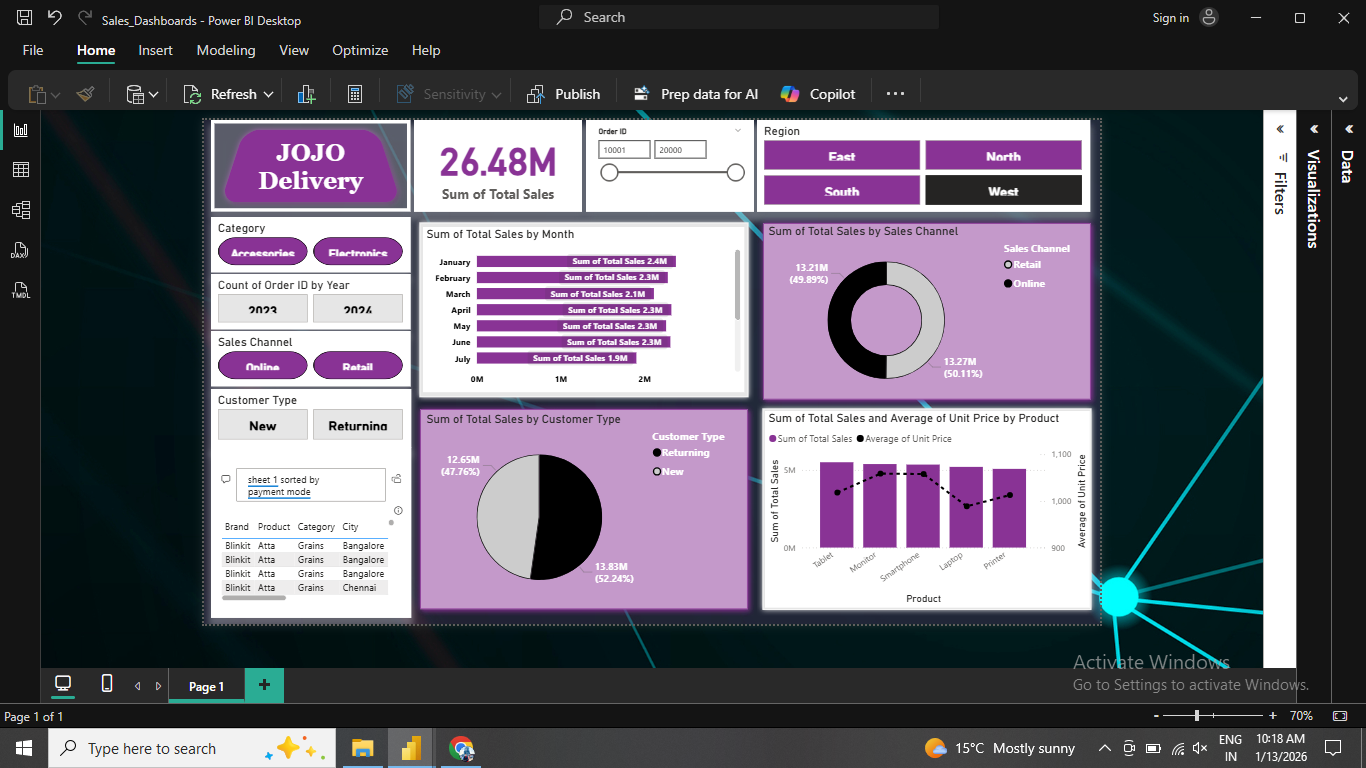

What the dashboard file says about the page in this screenshot:
{"tool":"powerbi","page":{"name":"Page 1","canvas":[1280,720],"ordinal":0},"visuals":[{"type":"shape","box":[9.9,0,285.2,131.3],"z":0},{"type":"slicer","fields":{"Values":["Sheet1 (2).Order ID"]},"box":[546.4,0,240,131.3],"z":1000},{"type":"card","fields":{"Values":["Sum(Sheet1 (2).Total Sales)"]},"box":[300.7,0,240,131.3],"z":2000},{"type":"advancedSlicerVisual","fields":{"Values":["Sheet1 (2).Region"]},"box":[790,0,475.7,131.4],"z":3000},{"type":"advancedSlicerVisual","fields":{"Values":["Sheet1 (2).Month.Variation.Date Hierarchy.Year"]},"box":[9.9,220.2,285.2,79.1],"z":4000},{"type":"advancedSlicerVisual","fields":{"Values":["Sheet1 (2).Category"]},"box":[9.9,138.4,285.2,79.1],"z":5000},{"type":"advancedSlicerVisual","fields":{"Values":["Sheet1 (2).Sales Channel"]},"box":[9.9,302.1,285.2,79.1],"z":6000},{"type":"advancedSlicerVisual","fields":{"Values":["Sheet1 (2).Customer Type"]},"box":[9.9,384,285.2,79.1],"z":7000},{"type":"qnaVisual","box":[10,467.1,285.7,244.3],"z":8000},{"type":"shape","box":[300.7,138.4,485.6,265.4],"z":9000},{"type":"shape","box":[300.7,403.8,485.6,303.5],"z":10000},{"type":"shape","box":[790.6,403.8,485.6,303.5],"z":11000},{"type":"shape","box":[790.6,138.4,485.6,269.6],"z":12000},{"type":"clusteredBarChart","fields":{"Category":["Sheet1 (2).Month.Variation.Date Hierarchy.Month"],"Y":["Sum(Sheet1 (2).Total Sales)"]},"box":[312.9,152.9,458.6,235.7],"z":13000},{"type":"lineStackedColumnComboChart","fields":{"Y":["Sum(Sheet1 (2).Total Sales)"],"Category":["Sheet1 (2).Product"],"Y2":["Avg(Sheet1 (2).Unit Price)"]},"box":[801.4,415.7,464.3,281.4],"z":14000},{"type":"donutChart","fields":{"Y":["Sum(Sheet1 (2).Total Sales)"],"Category":["Sheet1 (2).Sales Channel"]},"box":[801.4,148.6,464.3,255.7],"z":14001},{"type":"pieChart","fields":{"Y":["Sum(Sheet1 (2).Total Sales)"],"Category":["Sheet1 (2).Customer Type"]},"box":[312.9,417.1,458.6,281.4],"z":14002}]}

Visuals, with their boxes on the page's 1280x720 design canvas (x1, y1, x2, y2). These are canvas units, not pixel positions in the 1366x768 screenshot, which may show the page scaled, cropped or inside an application window:
shape: [10,0,295,131]
slicer - Sheet1 (2).Order ID: [546,0,786,131]
card - Sum(Sheet1 (2).Total Sales): [301,0,541,131]
advancedSlicerVisual - Sheet1 (2).Region: [790,0,1266,131]
advancedSlicerVisual - Sheet1 (2).Month.Variation.Date Hierarchy.Year: [10,220,295,299]
advancedSlicerVisual - Sheet1 (2).Category: [10,138,295,218]
advancedSlicerVisual - Sheet1 (2).Sales Channel: [10,302,295,381]
advancedSlicerVisual - Sheet1 (2).Customer Type: [10,384,295,463]
qnaVisual: [10,467,296,711]
shape: [301,138,786,404]
shape: [301,404,786,707]
shape: [791,404,1276,707]
shape: [791,138,1276,408]
clusteredBarChart - Sheet1 (2).Month.Variation.Date Hierarchy.Month x Sum(Sheet1 (2).Total Sales): [313,153,772,389]
lineStackedColumnComboChart - Sum(Sheet1 (2).Total Sales) x Sheet1 (2).Product: [801,416,1266,697]
donutChart - Sum(Sheet1 (2).Total Sales) x Sheet1 (2).Sales Channel: [801,149,1266,404]
pieChart - Sum(Sheet1 (2).Total Sales) x Sheet1 (2).Customer Type: [313,417,772,698]
